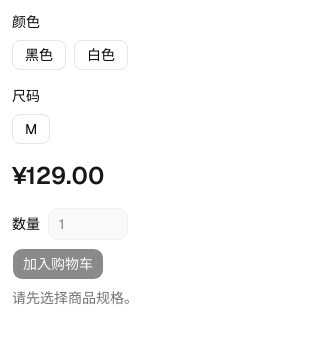
「加入购物车」按钮 › 成功后显示「已加入购物车。」与去购物车的链接
Click the button "黑色": (39, 55) [12, 40, 66, 70]
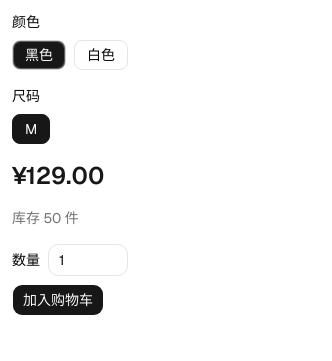
Click the button "M": (31, 129) [12, 114, 50, 144]
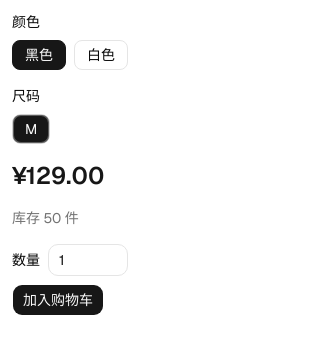
Click the button "加入购物车": (58, 300) [12, 284, 104, 316]
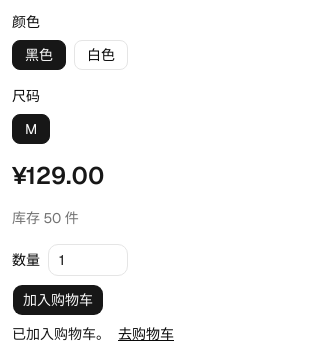
Result: the text "已加入购物车。" is shown at [12, 324, 110, 344]
